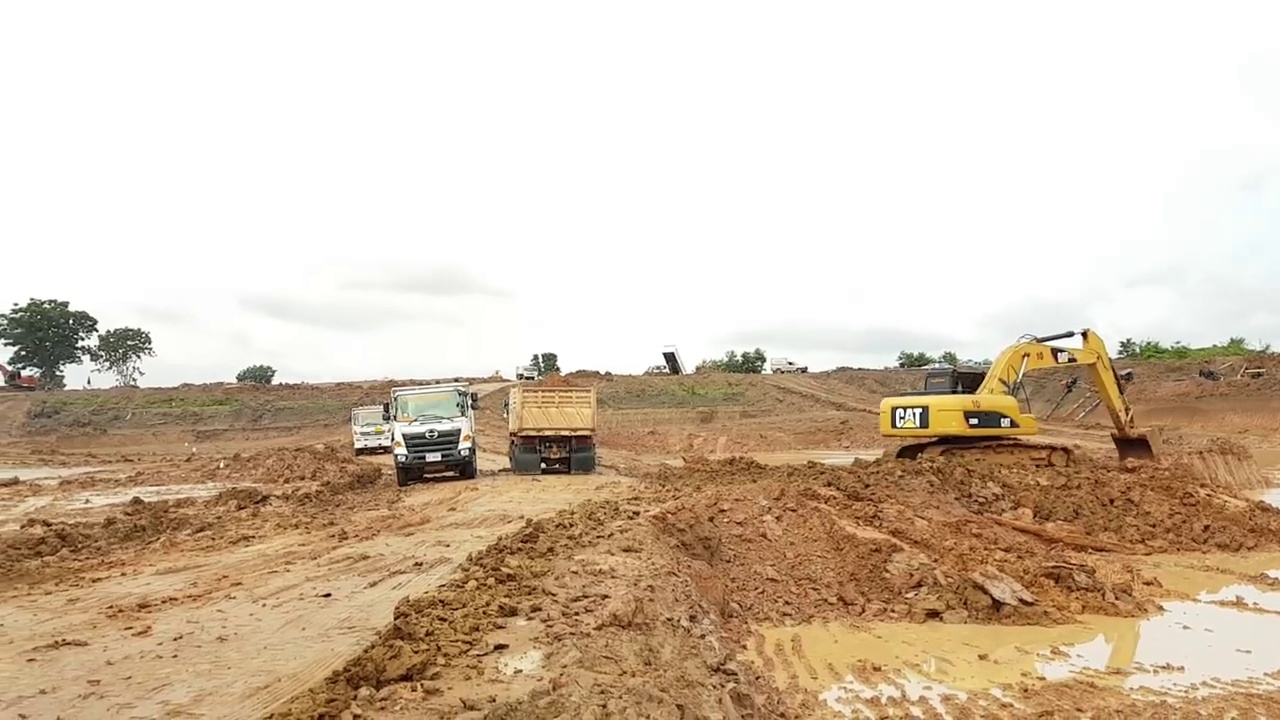excavator: (879, 326, 1162, 474)
truck: (381, 378, 478, 481), (502, 386, 602, 470), (342, 397, 394, 457)
